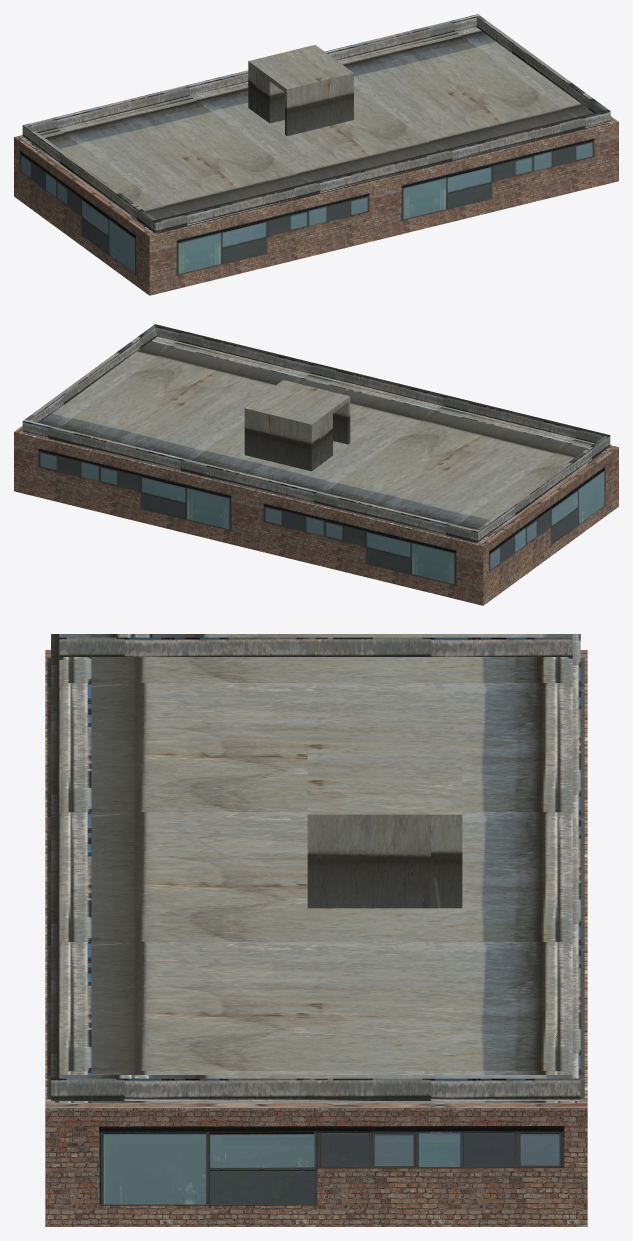
Rendered from BagSS11top_200.fbx.
The picture shows the model from 3 angles, top to bottom: view 1: azimuth 30°, elevation 25°; view 2: azimuth 150°, elevation 25°; view 3: azimuth 270°, elevation 25°; orthographic projection. The views are drawn at different scales.
Parts seen in each view (by area): view 1: topRoof200, topBox200; view 2: topRoof200, topBox200; view 3: topRoof200, topBox200.
Boxes of the visible parts, box(x1,y1,x2,y2) form: topRoof200: box(22, 14, 610, 233); topBox200: box(14, 116, 618, 295); topRoof200: box(22, 324, 610, 543); topBox200: box(14, 426, 618, 605); topRoof200: box(47, 634, 584, 1102); topBox200: box(45, 650, 587, 1226).
Size of the model in its own units: 170 by 37.72 by 85.22.
